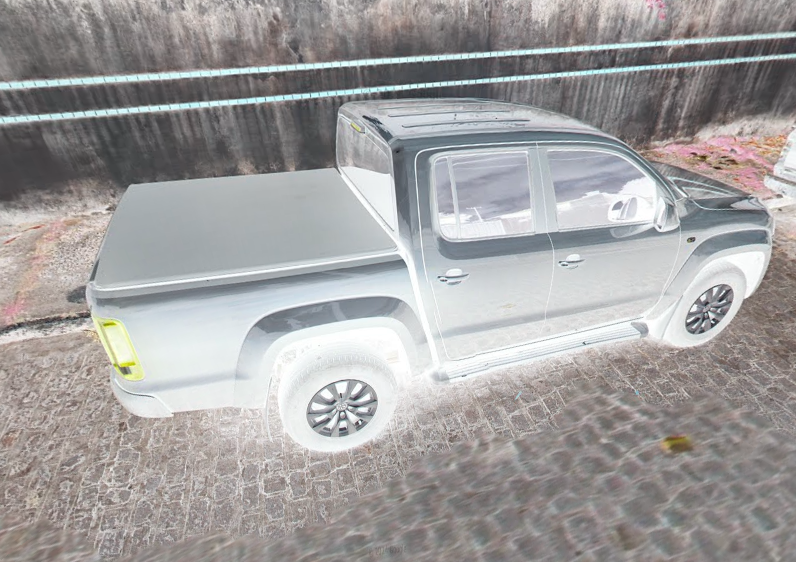car: (80, 97, 776, 458)
